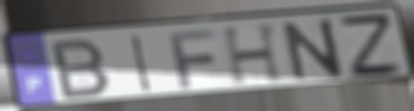B: (49, 36, 114, 102)
F: (166, 28, 220, 91)
H: (219, 21, 288, 88)
I: (130, 32, 154, 95)
N: (280, 16, 347, 83)
Z: (335, 13, 407, 81)
